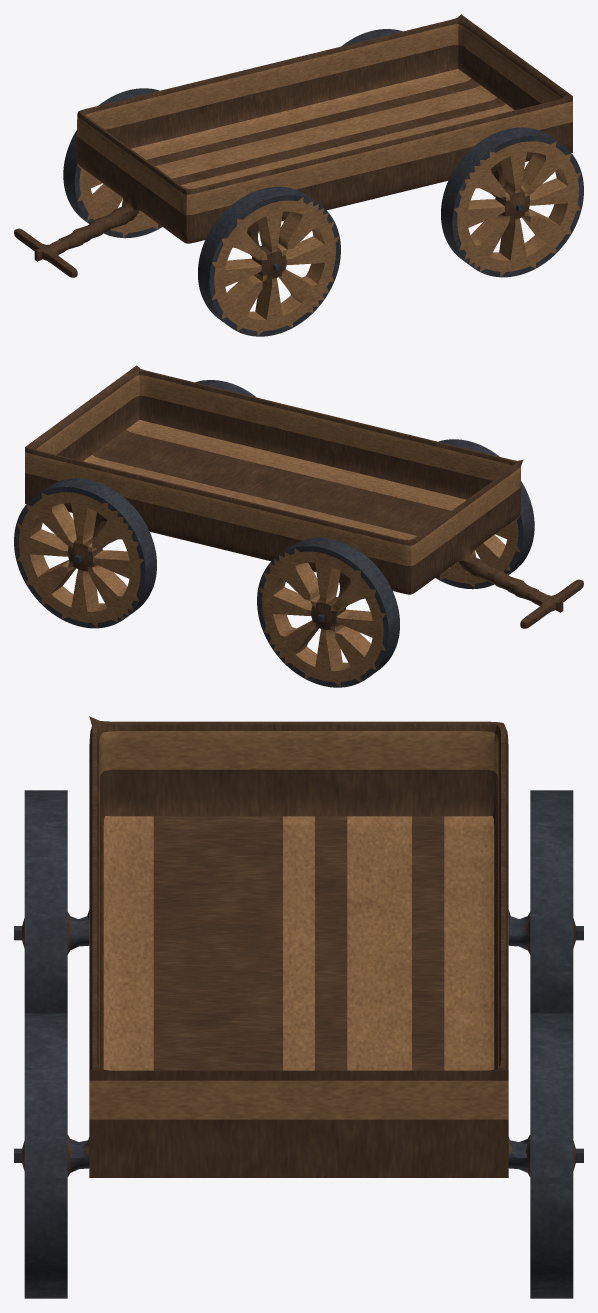
Rendered from prop_wagon.glb.
3 renders of one model, top to bottom at view 1: azimuth 30°, elevation 25°; view 2: azimuth 150°, elevation 25°; view 3: azimuth 270°, elevation 25°, orthographic. The views are drawn at different scales.
Parts seen in each view (by area): view 1: wilds_prop_wagon; view 2: wilds_prop_wagon; view 3: wilds_prop_wagon.
Part boxes in pixels (bbox=[...]): wilds_prop_wagon: bbox=[14, 14, 583, 336]; wilds_prop_wagon: bbox=[14, 365, 583, 687]; wilds_prop_wagon: bbox=[14, 716, 583, 1298].
Size of the model in its own units: 2.12 by 0.6294 by 1.16.
1 material, 1 textured.
